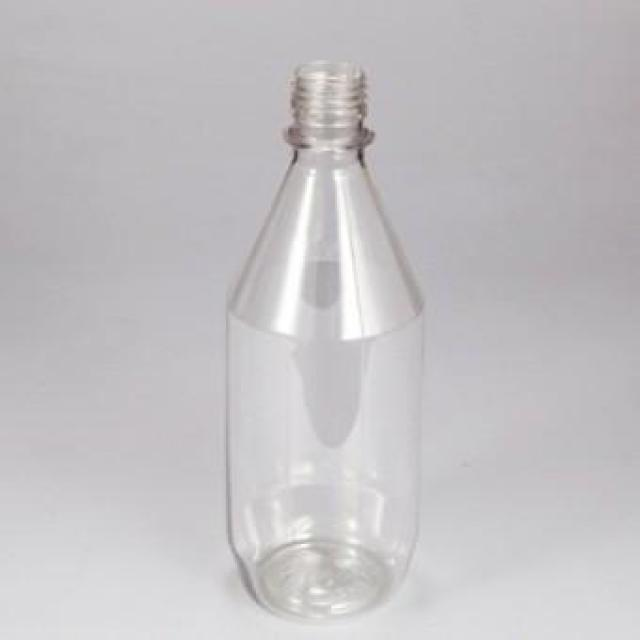bottle: (226, 58, 423, 618)
